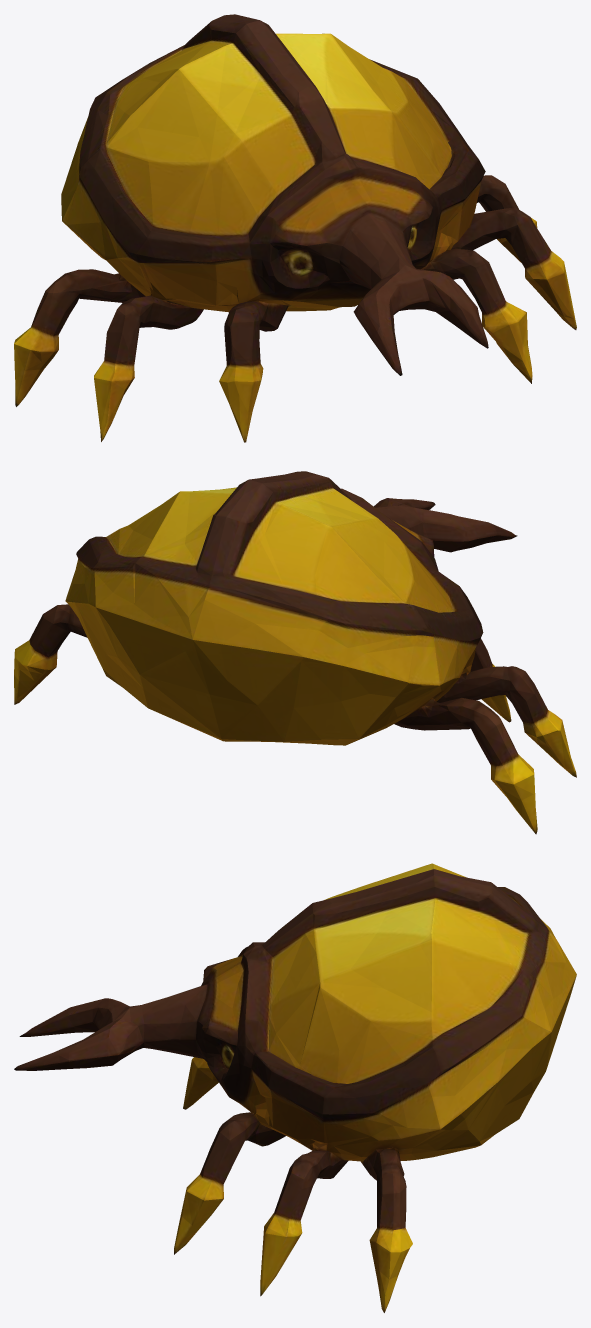
Rendered from monstre_elite_scarabee.glb.
3 views of the same model, one above another, from view 1: azimuth 30°, elevation 25°; view 2: azimuth 150°, elevation 25°; view 3: azimuth 270°, elevation 25° (orthographic).
Parts seen in each view (by area): view 1: geometry_0; view 2: geometry_0; view 3: geometry_0.
Part boxes in pixels (x1,y1,x2,y2): geometry_0: [14, 14, 576, 442]; geometry_0: [14, 471, 576, 834]; geometry_0: [14, 863, 576, 1312].
Size of the model in its own units: 0.9876 by 0.5504 by 0.9049.
1 material, 1 textured.
